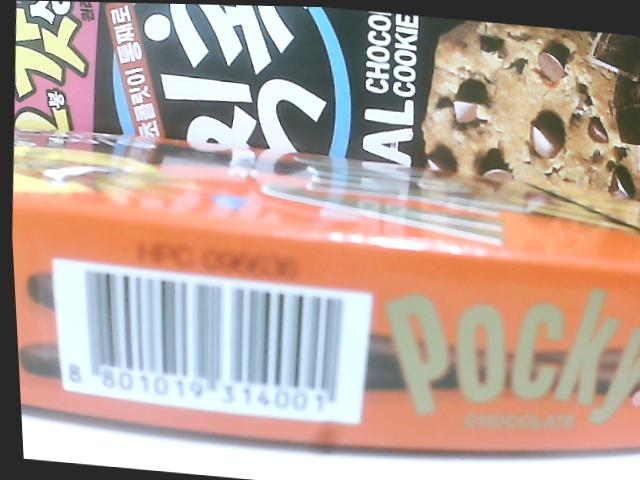redpocky-1800-2025-7-23: (41, 263, 367, 424)
